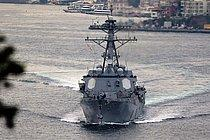MIL_Ship: (77, 13, 144, 126)
